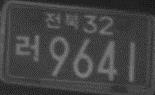1: (127, 41, 136, 85)
2: (98, 15, 114, 36)
3: (80, 12, 97, 34)
4: (95, 38, 118, 81)
6: (71, 38, 93, 78)
9: (48, 34, 70, 77)
러: (13, 33, 40, 62)
전북_O: (45, 12, 80, 32)
